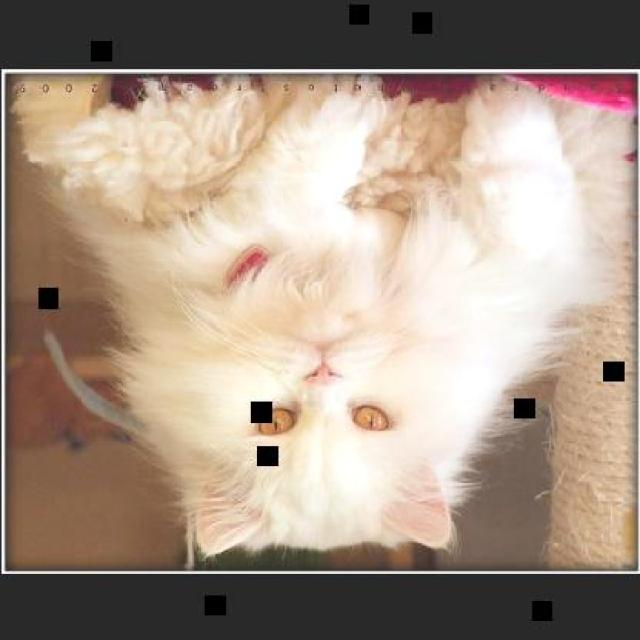unauthorized: (15, 74, 634, 566)
